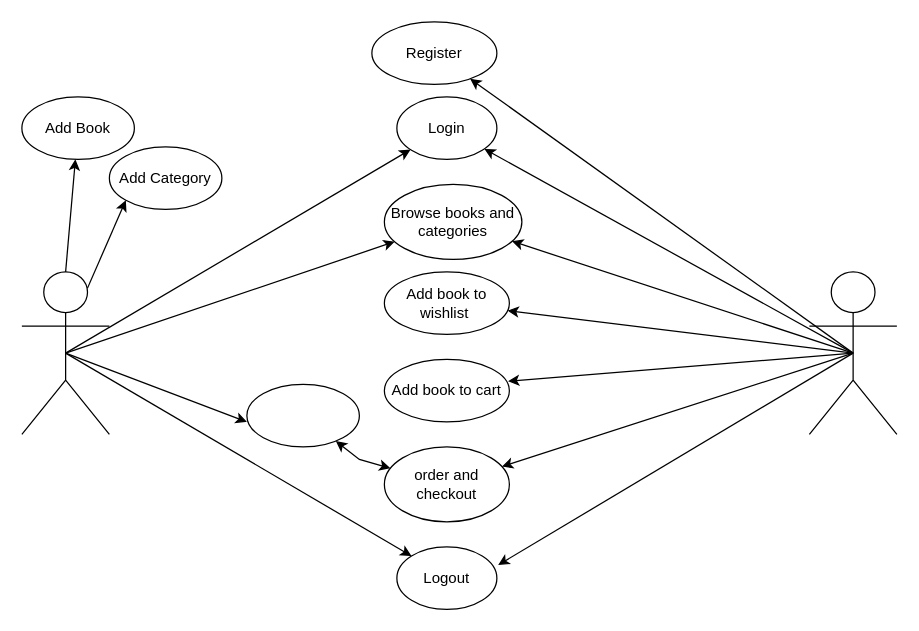
The diagram is 919 pixels wide and 631 high, and some of its shapes have lost their labels. Each missing label, with the box of its shape:
Admin: (21, 271, 109, 434)
Customer: (808, 271, 897, 434)
Process Orders: (246, 383, 359, 447)
